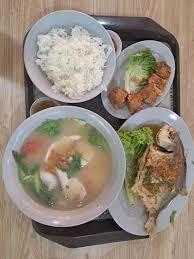Braised Crucian Carp: (1, 106, 124, 228), (106, 106, 193, 236), (23, 9, 117, 103), (101, 39, 175, 118)
